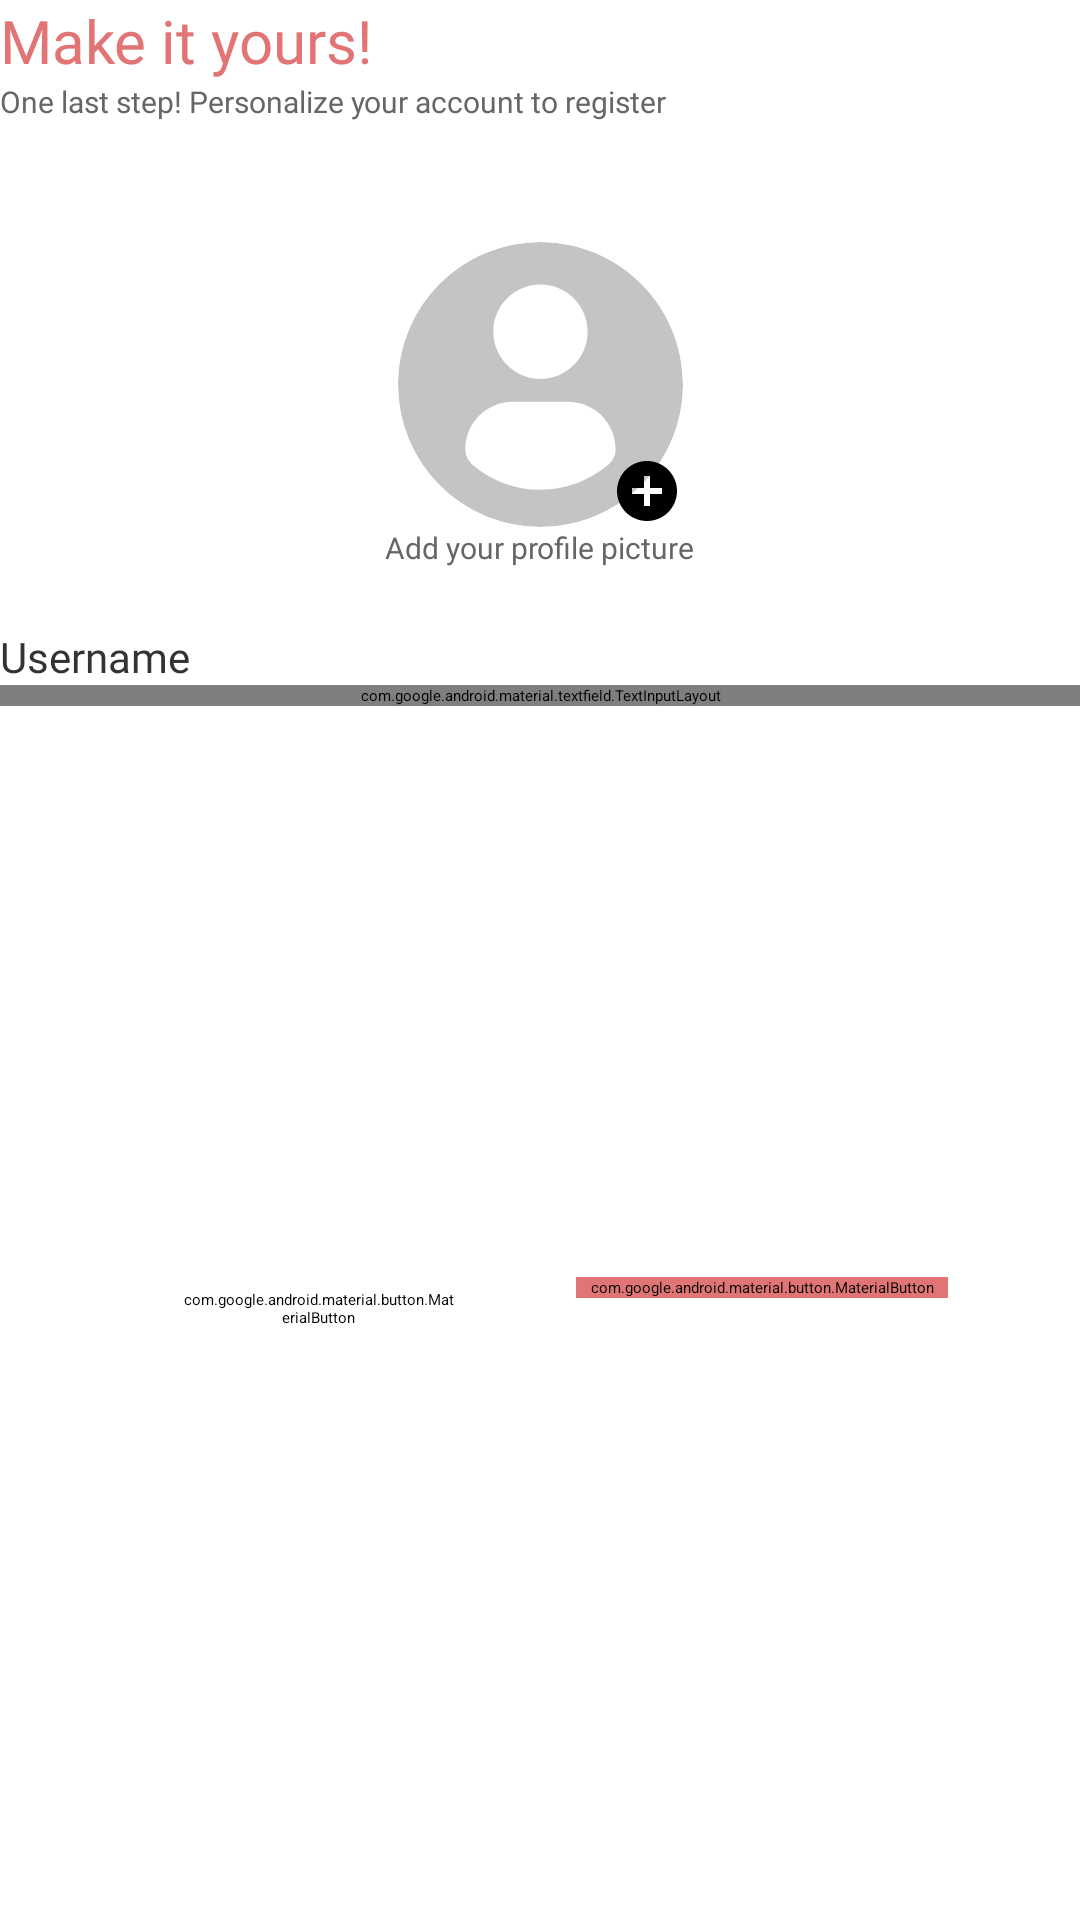

Screen size 1080 × 1920. Icon name, then its center in pixels as [x,y]:
add circle: [644,488]
